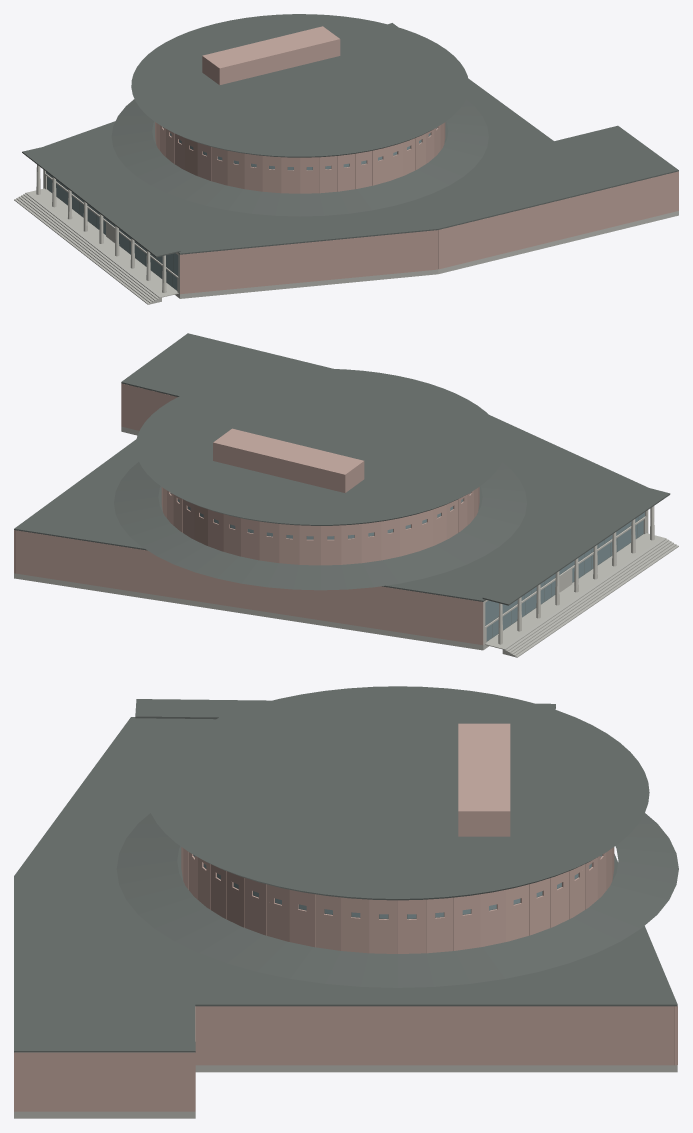
3 views of the same model, one above another, from view 1: azimuth 30°, elevation 25°; view 2: azimuth 150°, elevation 25°; view 3: azimuth 270°, elevation 25° (orthographic). The views are drawn at different scales.
Parts seen in each view (by area): view 1: b36963715__roof, b36963715__rose, b36963715__plinth, b36963715__stairs, b36963715__threshold, b36963715__glass, b36963715__columns, b36963715__stone, b36963715__frame; view 2: b36963715__roof, b36963715__rose, b36963715__stairs, b36963715__plinth, b36963715__glass, b36963715__threshold, b36963715__columns, b36963715__stone, b36963715__frame; view 3: b36963715__roof, b36963715__rose, b36963715__plinth.
Part boxes in pixels (x1=…): b36963715__roof: x1=22, y1=14, x2=678, y2=257; b36963715__rose: x1=155, y1=26, x2=678, y2=294; b36963715__plinth: x1=43, y1=188, x2=678, y2=298; b36963715__stairs: x1=14, y1=192, x2=161, y2=304; b36963715__threshold: x1=28, y1=188, x2=178, y2=297; b36963715__glass: x1=46, y1=127, x2=437, y2=290; b36963715__columns: x1=36, y1=165, x2=166, y2=292; b36963715__stone: x1=43, y1=169, x2=179, y2=293; b36963715__frame: x1=46, y1=127, x2=436, y2=290; b36963715__roof: x1=14, y1=333, x2=670, y2=605; b36963715__rose: x1=14, y1=383, x2=483, y2=645; b36963715__stairs: x1=502, y1=537, x2=678, y2=657; b36963715__plinth: x1=14, y1=426, x2=648, y2=650; b36963715__glass: x1=170, y1=492, x2=644, y2=640; b36963715__threshold: x1=485, y1=533, x2=663, y2=649; b36963715__columns: x1=498, y1=506, x2=654, y2=644; b36963715__stone: x1=483, y1=510, x2=648, y2=644; b36963715__frame: x1=170, y1=493, x2=644, y2=641; b36963715__roof: x1=14, y1=686, x2=678, y2=1052; b36963715__rose: x1=14, y1=723, x2=677, y2=1111; b36963715__plinth: x1=14, y1=1065, x2=677, y2=1118.
Bounding box in the file's own units: 97.41 × 21.6 × 76.87.
